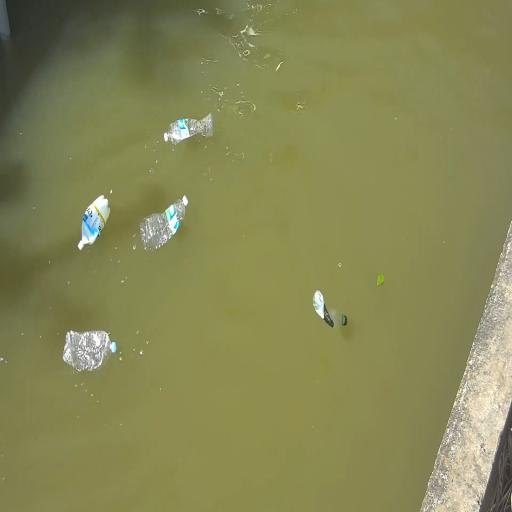plastic: (140, 196, 188, 249), (63, 331, 116, 372), (78, 195, 110, 250), (164, 113, 213, 144), (313, 291, 347, 327)
